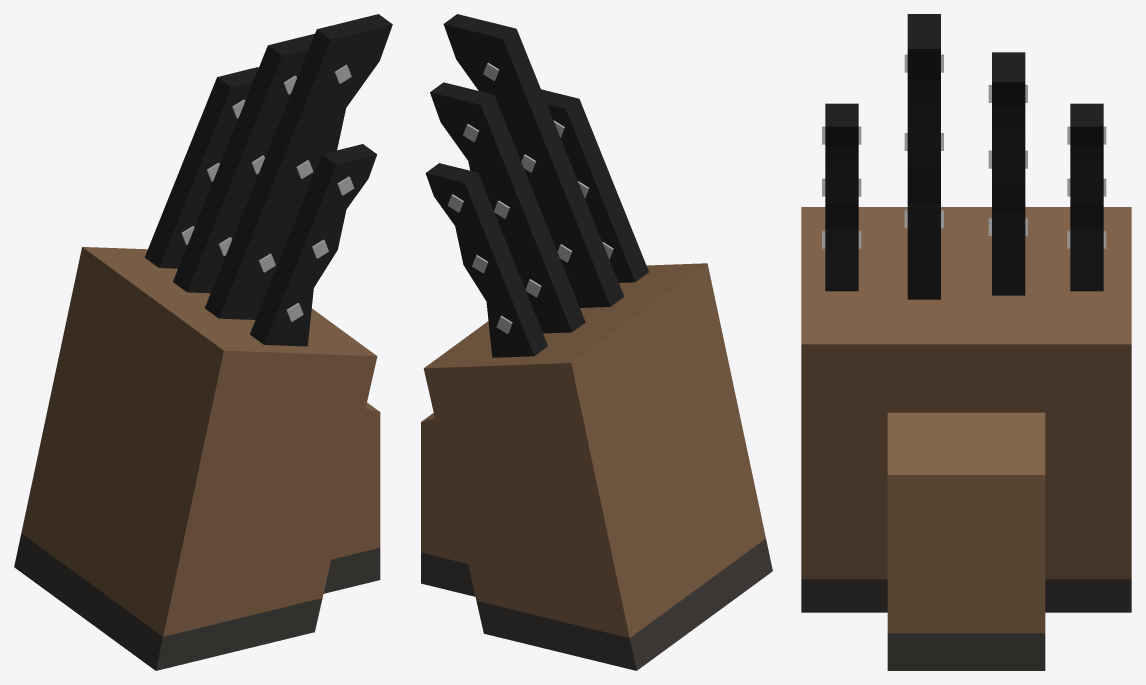
The model's file is SM_kitchenKnifeBox.glb.
The picture shows the model from 3 angles, left to right: view 1: azimuth 30°, elevation 25°; view 2: azimuth 150°, elevation 25°; view 3: azimuth 270°, elevation 25°; orthographic projection. The views are drawn at different scales.
Parts seen in each view (by area): view 1: SM_kitchenKnifeBox; view 2: SM_kitchenKnifeBox; view 3: SM_kitchenKnifeBox.
Part boxes in pixels (x1,y1,x2,y2): SM_kitchenKnifeBox: (14,14,392,670); SM_kitchenKnifeBox: (421,14,772,670); SM_kitchenKnifeBox: (801,14,1131,670).
Size of the model in its own units: 0.2621 by 0.482 by 0.2277.
Materials: 1 (1 with a texture image).
